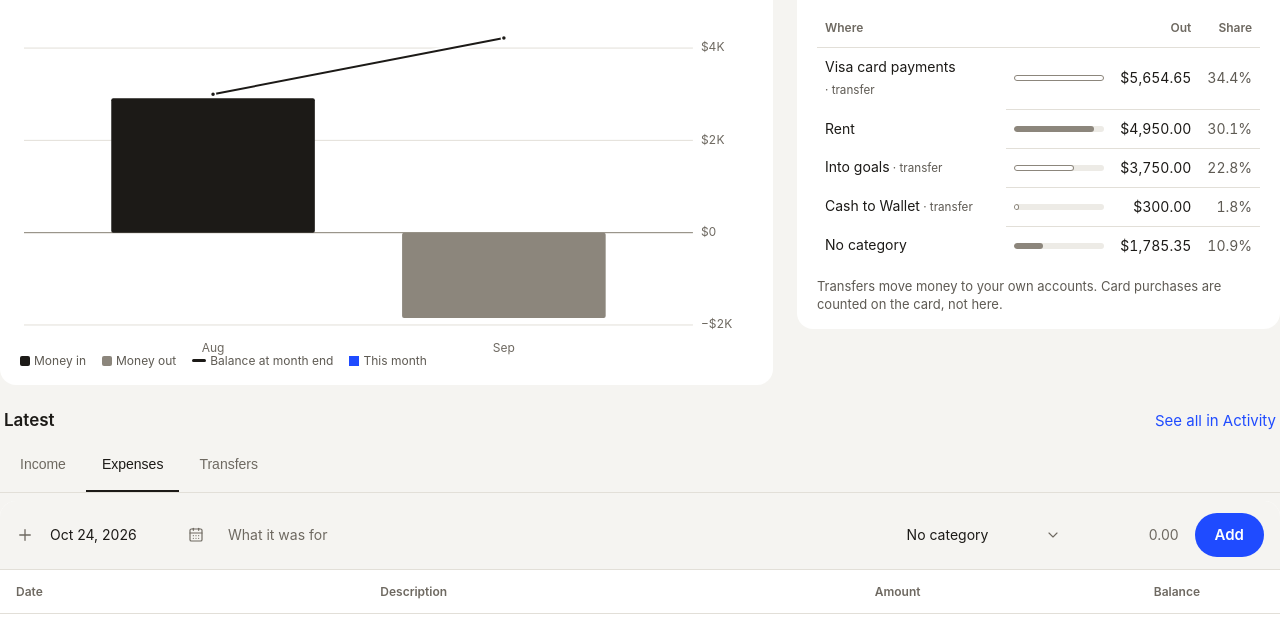
AccountDetailPage › refuses an amount it would have to round
The image size is (1280, 619).
(page scrolled)
Type "10.005" into the field named "Amount" at (1132, 535), box [1077,517,1187,553]
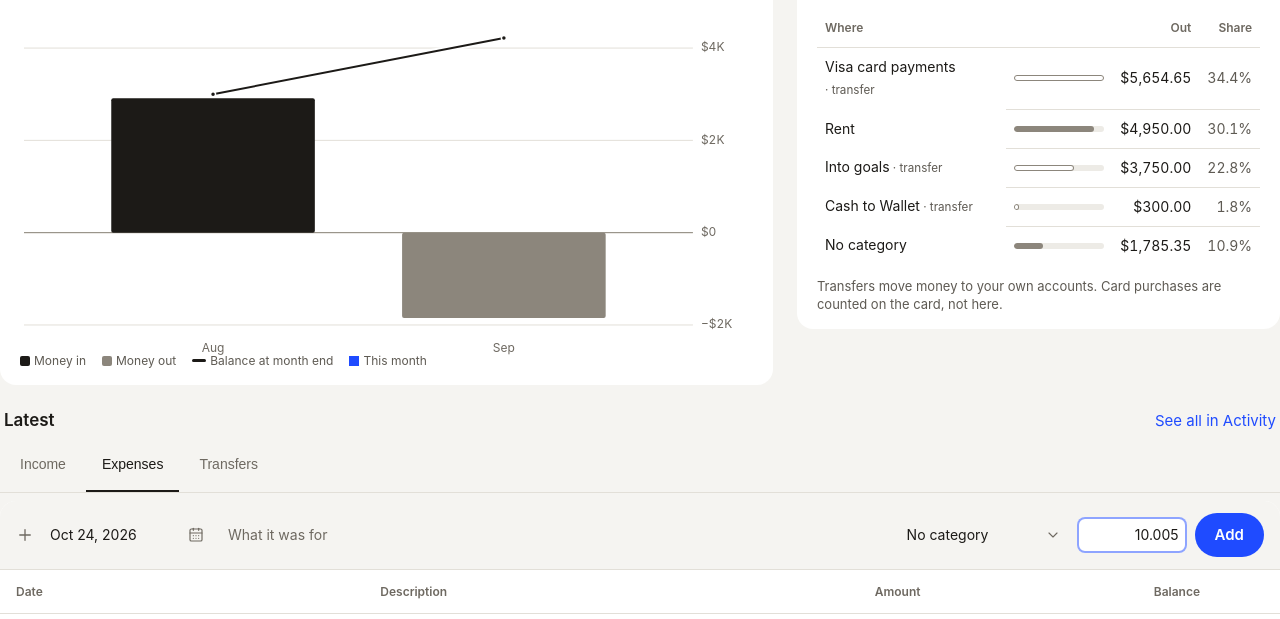
Click the button "Add" at (1229, 535), box [1195,513,1264,557]
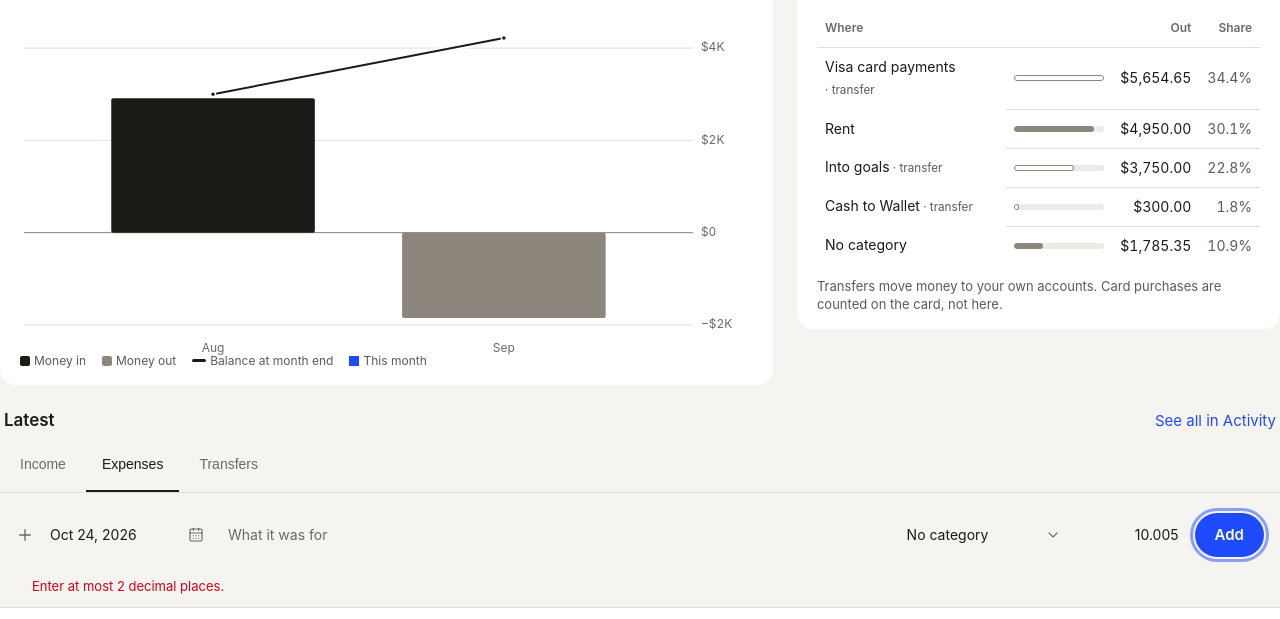
Expected: the text "Enter at most 2 decimal places." is shown, [32,578,224,594]
